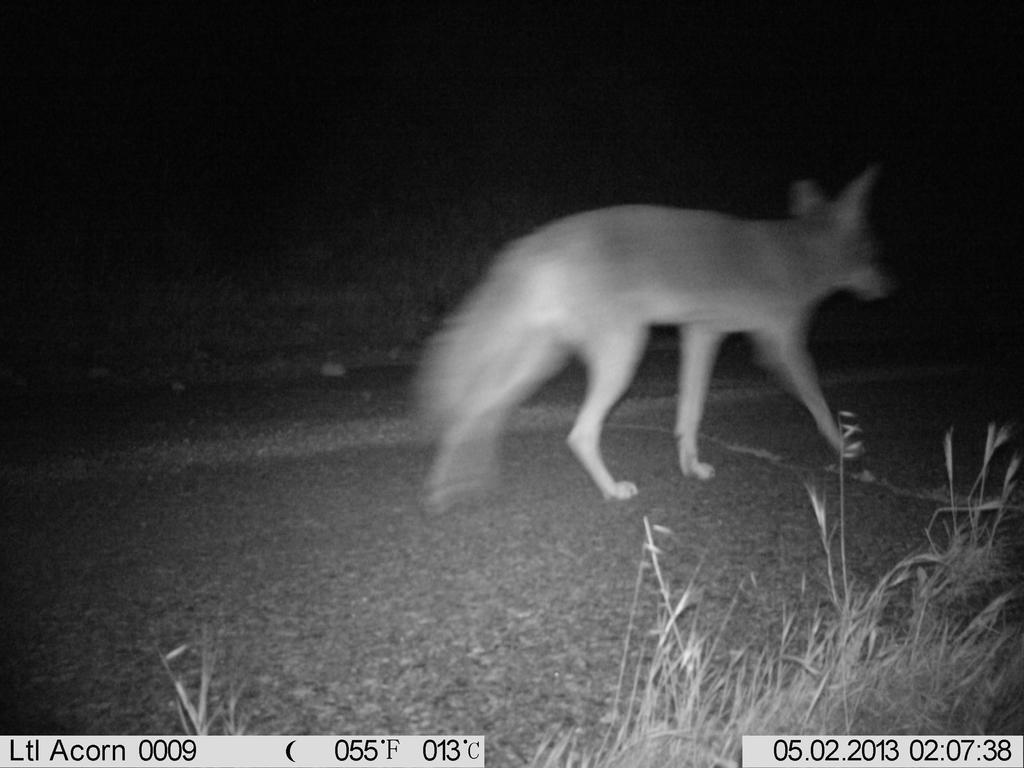coyote: (400, 155, 901, 524)
